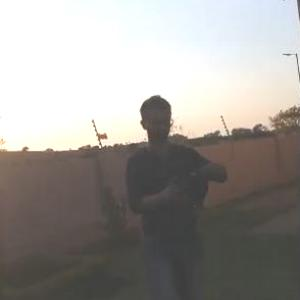follow: (119, 85, 234, 299)
